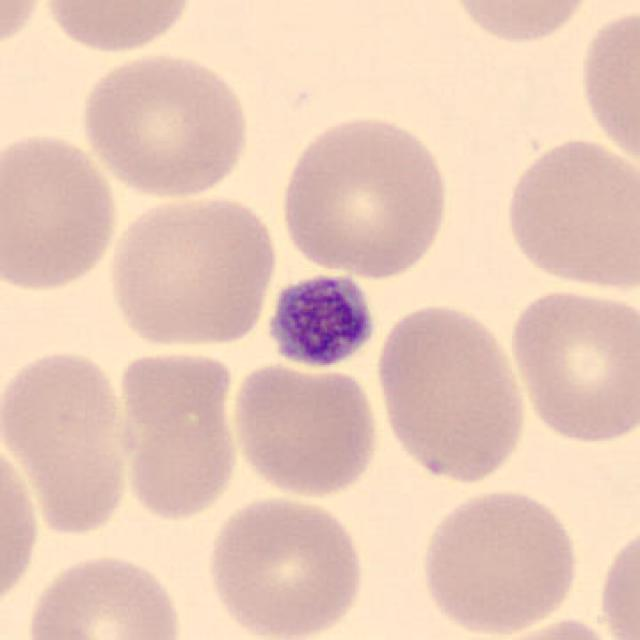Platelets: (260, 268, 378, 370)
RBC: (274, 110, 453, 280), (372, 298, 532, 488), (103, 188, 281, 352), (0, 342, 139, 540), (75, 48, 254, 201), (414, 485, 583, 636), (201, 490, 370, 640), (114, 346, 244, 527), (226, 356, 384, 501), (498, 133, 638, 294), (503, 282, 638, 448), (0, 127, 123, 296), (21, 548, 187, 640), (574, 4, 640, 169), (39, 0, 197, 56), (0, 434, 43, 622), (443, 0, 597, 48), (594, 516, 640, 640), (478, 613, 631, 640), (0, 0, 48, 58)
